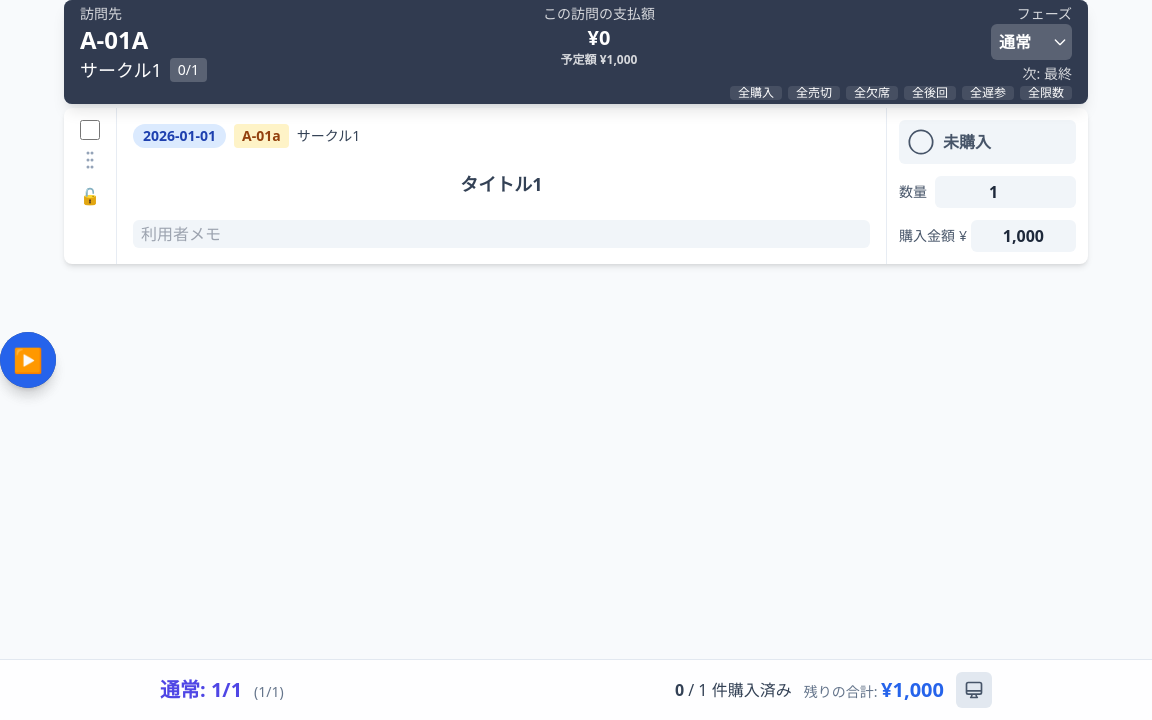
Test: FocusMode purchase status control mode › records post-event distribution check answer when a focus item becomes sold out
Click the button with aria-label "Current status": (988, 142) [899,120,1076,164]
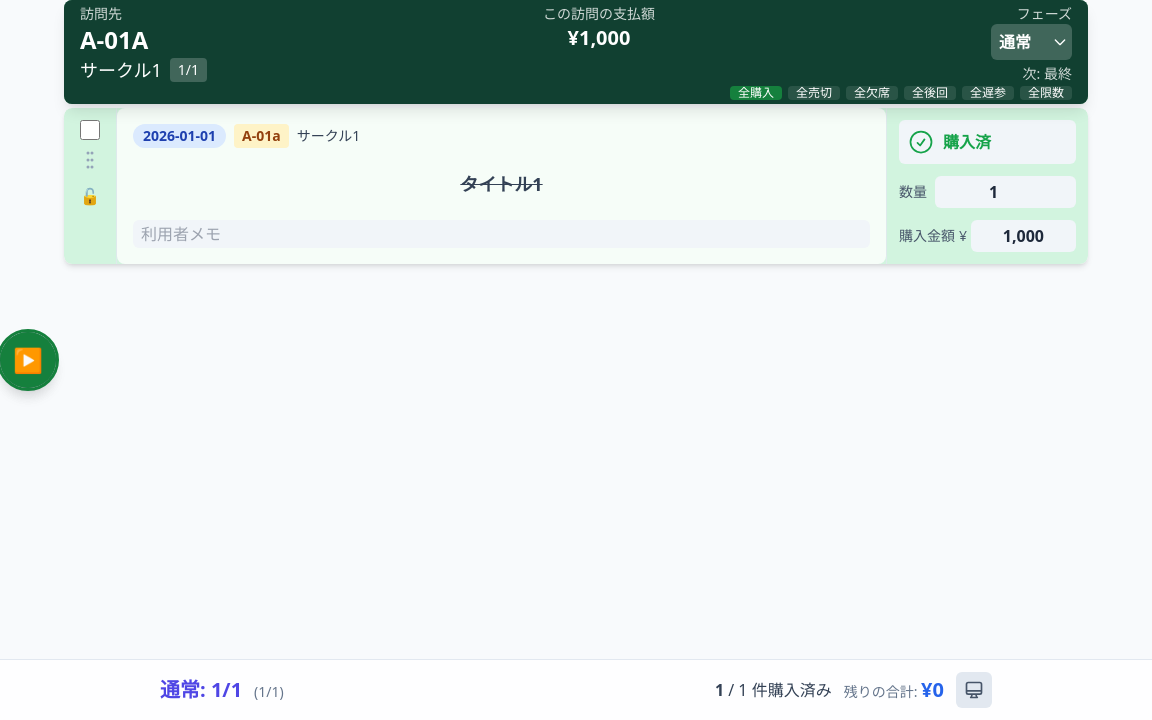
Click the button with aria-label "Current status": (988, 142) [899,120,1076,164]
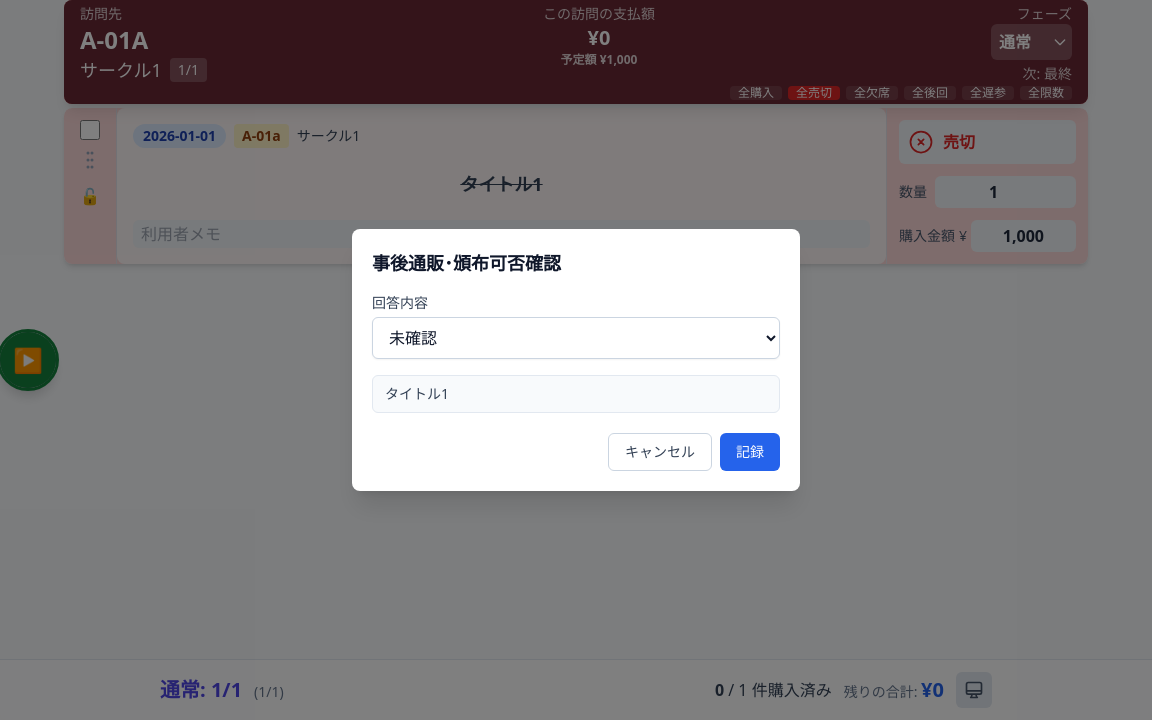
Result: the dialog "事後通販･頒布可否確認" is shown at [352,229,800,491]
Click the button "記録": (750, 452) [720,433,780,471]
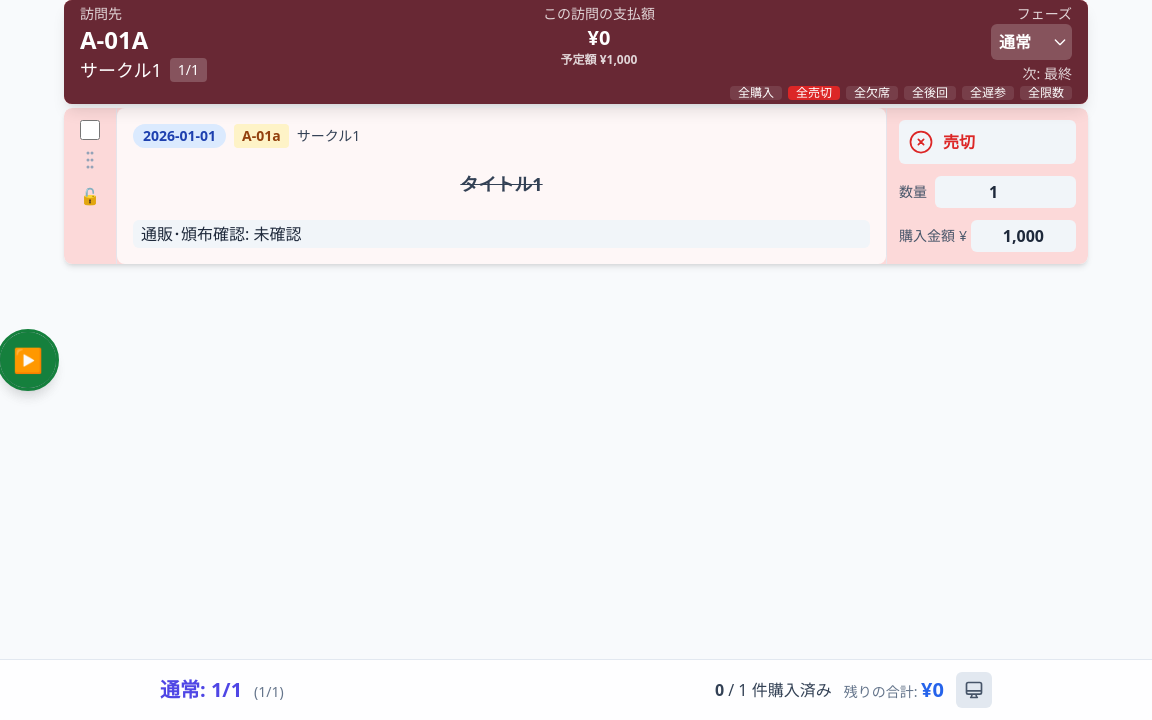
Result: the field showing "通販･頒布確認: 未確認" is shown at [133,220,870,248]
